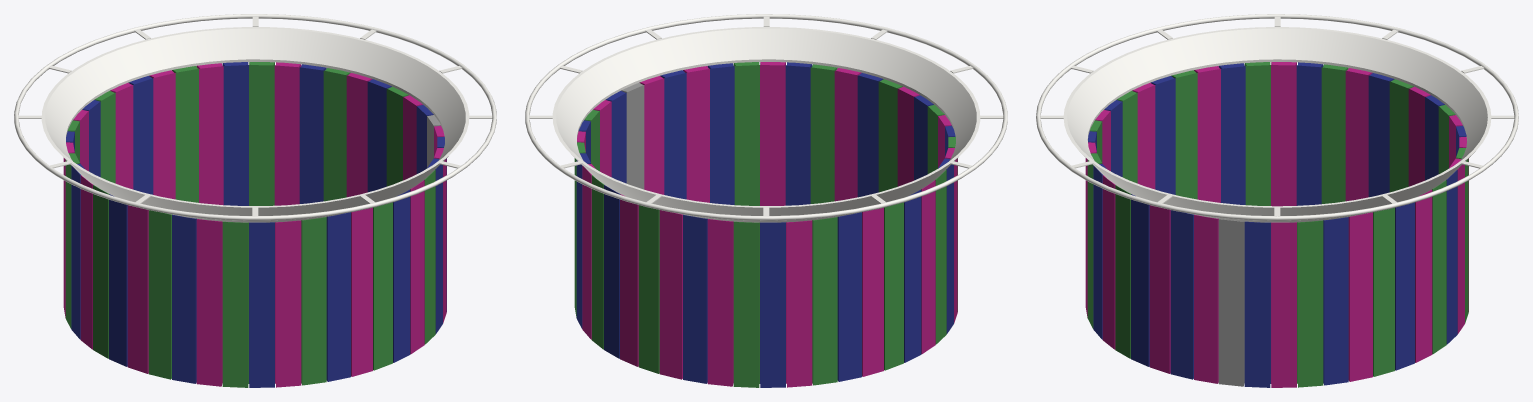
Rendered from black_hole.fbx.
3 views of the same model, side by side, from view 1: azimuth 30°, elevation 25°; view 2: azimuth 150°, elevation 25°; view 3: azimuth 270°, elevation 25° (orthographic).
Visible parts, largest first — view 1: fence, Body46, Body27, Body38, Body44, Body2, Body24, Body9, Body6, Body20, Body22, Body4 (+30 smaller); view 2: fence, Body46, Body19, Body41, Body34, Body8, Body26, blue_end, Body1, Body33, Body31, Body21 (+30 smaller); view 3: fence, Body46, Body5, Body28, Body23, Body35, Body12, Body43, Body32, Body3, Body37, Body18 (+30 smaller).
Part boxes in pixels (x1,y1,x2,y2): fence: (41, 27, 469, 222); Body46: (14, 14, 496, 220); Body27: (222, 221, 248, 387); Body38: (196, 219, 222, 386); Body44: (275, 220, 301, 387); Body2: (249, 222, 274, 387); Body24: (301, 217, 326, 385); Body9: (172, 214, 196, 383); Body6: (326, 212, 350, 381); Body20: (148, 210, 171, 379); Body22: (249, 62, 274, 205); Body4: (222, 62, 248, 205); fence: (552, 27, 980, 222); Body46: (525, 14, 1007, 220); Body19: (733, 221, 759, 387); Body41: (707, 219, 733, 386); Body34: (786, 220, 812, 387); Body8: (760, 222, 785, 387); Body26: (812, 217, 837, 385); blue_end: (683, 214, 707, 383); Body1: (837, 212, 861, 381); Body33: (659, 210, 682, 379); Body31: (760, 62, 785, 205); Body21: (733, 62, 759, 205); fence: (1063, 27, 1491, 222); Body46: (1036, 14, 1518, 220); Body5: (1244, 221, 1270, 387); Body28: (1218, 219, 1244, 386); Body23: (1297, 220, 1323, 387); Body35: (1271, 222, 1296, 387); Body12: (1323, 217, 1348, 385); Body43: (1194, 214, 1218, 383); Body32: (1348, 212, 1372, 381); Body3: (1170, 210, 1193, 379); Body37: (1271, 62, 1296, 206); Body18: (1244, 62, 1270, 205).
Size of the model in its own units: 531 by 232 by 531.
